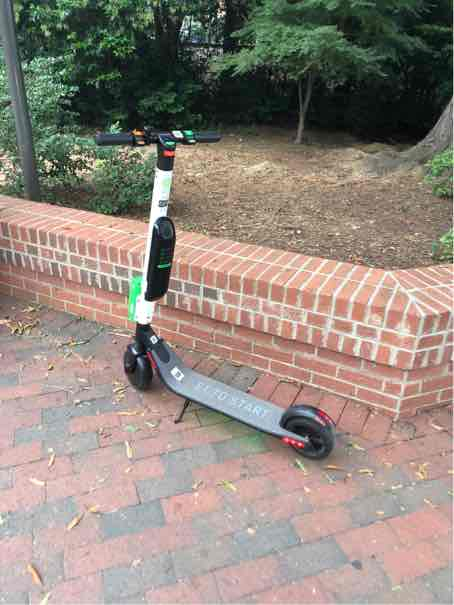scooter: (99, 118, 334, 467)
